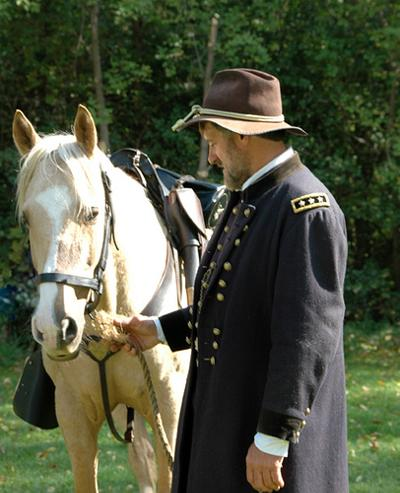person: (101, 69, 350, 493)
